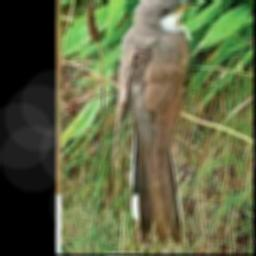Cuckoo: (116, 0, 199, 240)
